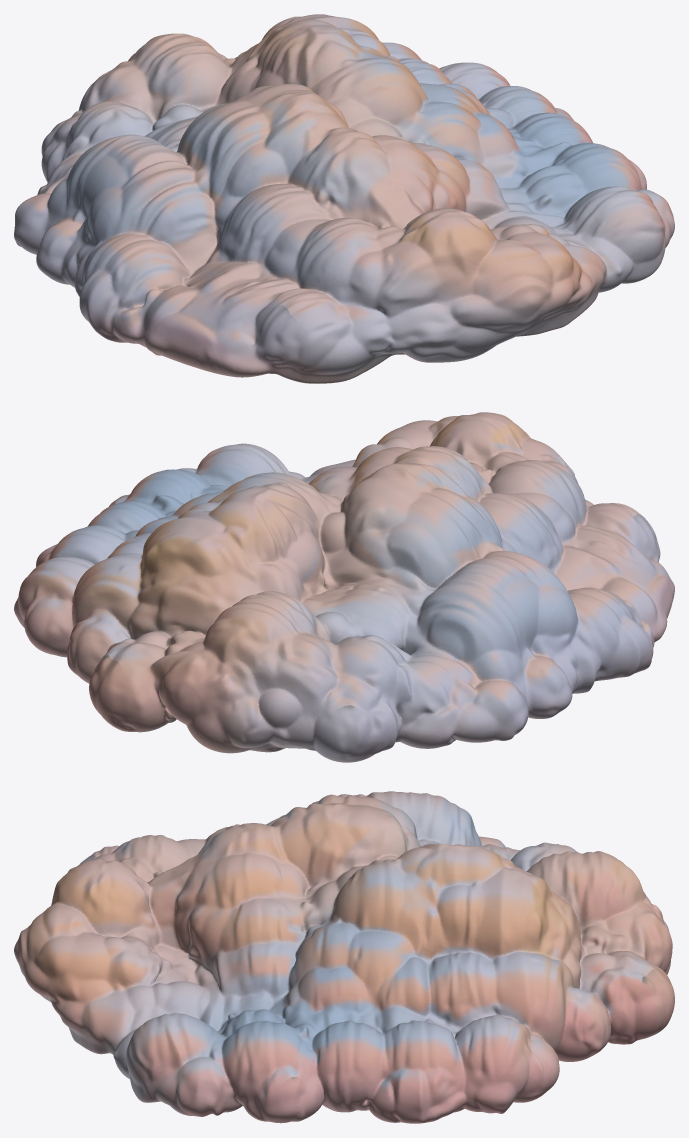
The model's file is cloud_3d.glb.
3 renders of one model, top to bottom at view 1: azimuth 30°, elevation 25°; view 2: azimuth 150°, elevation 25°; view 3: azimuth 270°, elevation 25°, orthographic.
Visible parts, largest first — view 1: tripo_node_e6ce7e67-e414-4c40-ac18-736ad35b537d; view 2: tripo_node_e6ce7e67-e414-4c40-ac18-736ad35b537d; view 3: tripo_node_e6ce7e67-e414-4c40-ac18-736ad35b537d.
Part boxes in pixels (x1,y1,x2,y2): tripo_node_e6ce7e67-e414-4c40-ac18-736ad35b537d: (14, 14, 674, 383); tripo_node_e6ce7e67-e414-4c40-ac18-736ad35b537d: (14, 412, 674, 762); tripo_node_e6ce7e67-e414-4c40-ac18-736ad35b537d: (14, 791, 674, 1123).
Bounding box in the file's own units: 0.949 × 0.3241 × 1.
1 material, 1 textured.
